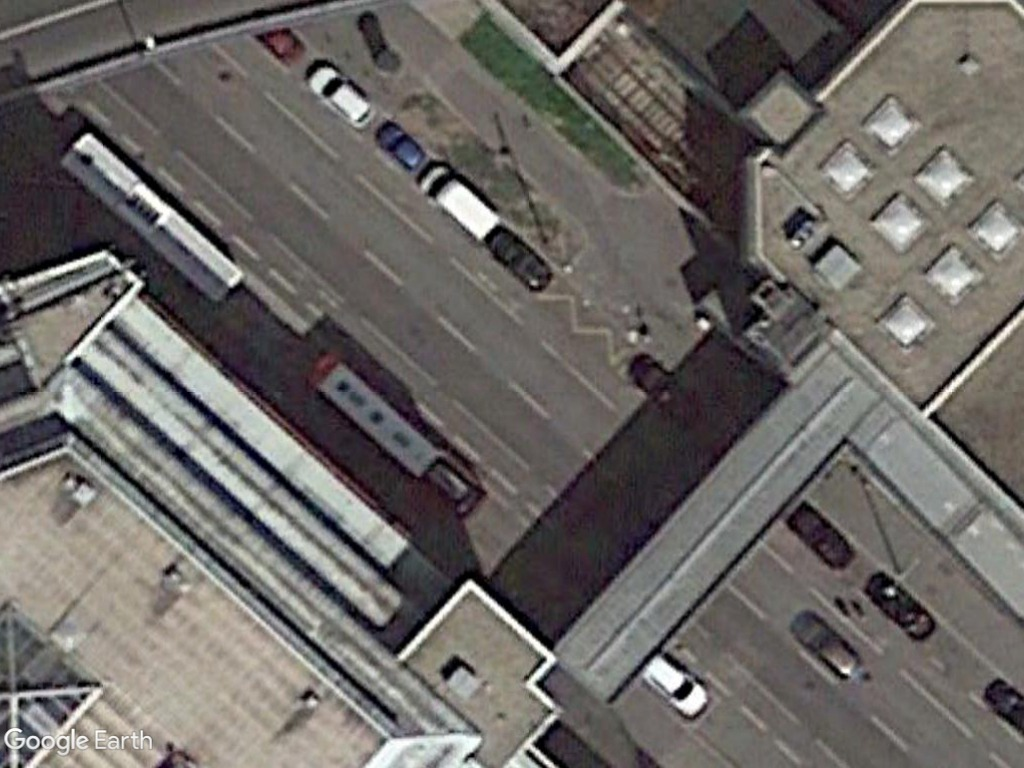bus: (57, 131, 248, 308), (309, 356, 492, 520)
car: (789, 609, 864, 682), (305, 63, 378, 132), (639, 652, 712, 720), (375, 118, 425, 174)
van: (419, 162, 505, 247)
